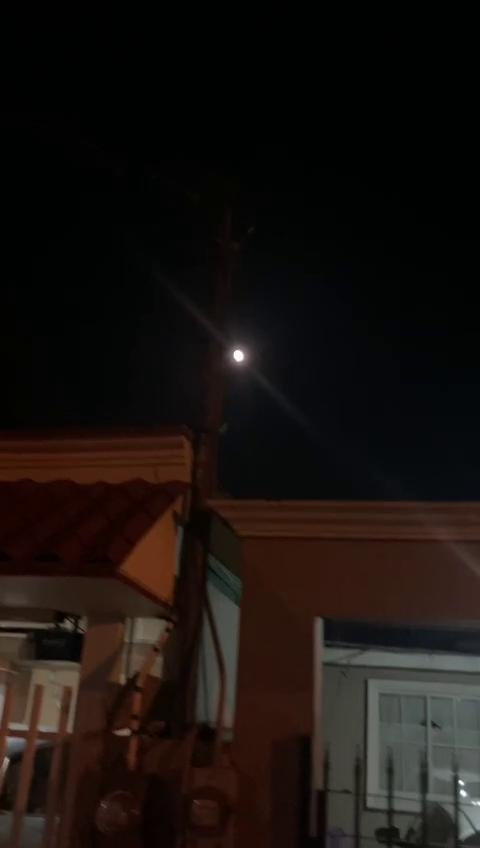moon: (227, 338, 249, 373)
